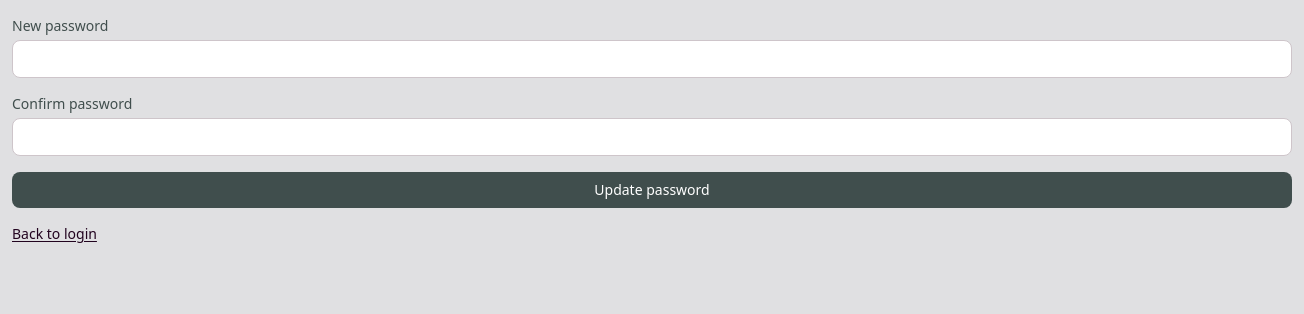
Test: ResetPasswordForm › submits valid password reset and redirects to login
The image size is (1304, 314).
Type "newpassword123" into the password field labelled "New password".
click(652, 59); type("newpassword123")  # box [12, 40, 1292, 78]
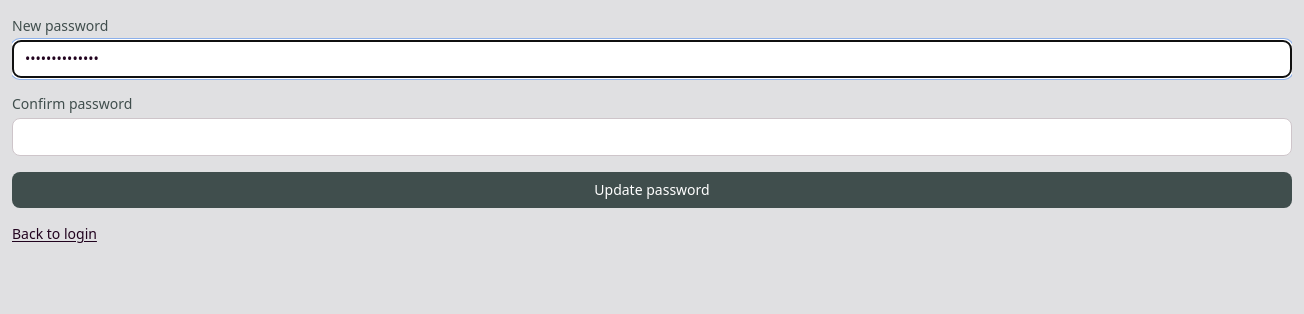
Type "newpassword123" into the password field labelled "Confirm password".
click(652, 137); type("newpassword123")  # box [12, 118, 1292, 156]
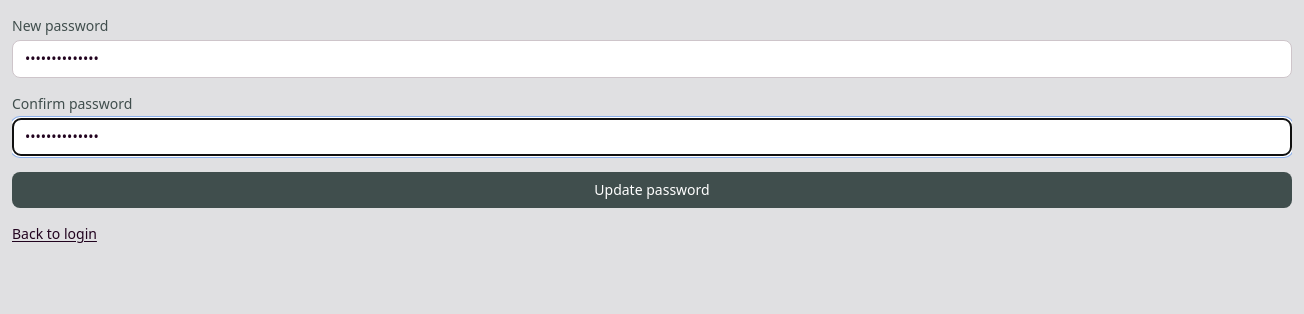
Click the button "Update password".
click(652, 190)  # box [12, 172, 1292, 208]
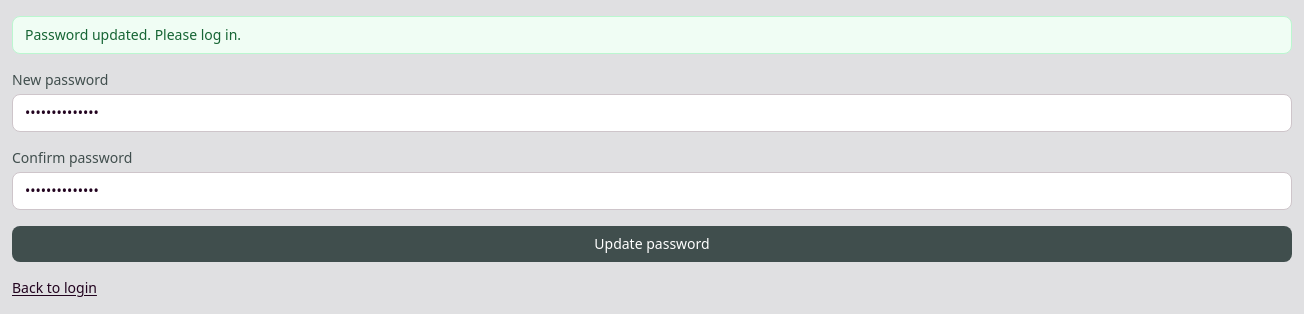
Expected: the text "Password updated. Please log in." is shown, [12, 16, 1292, 54]
